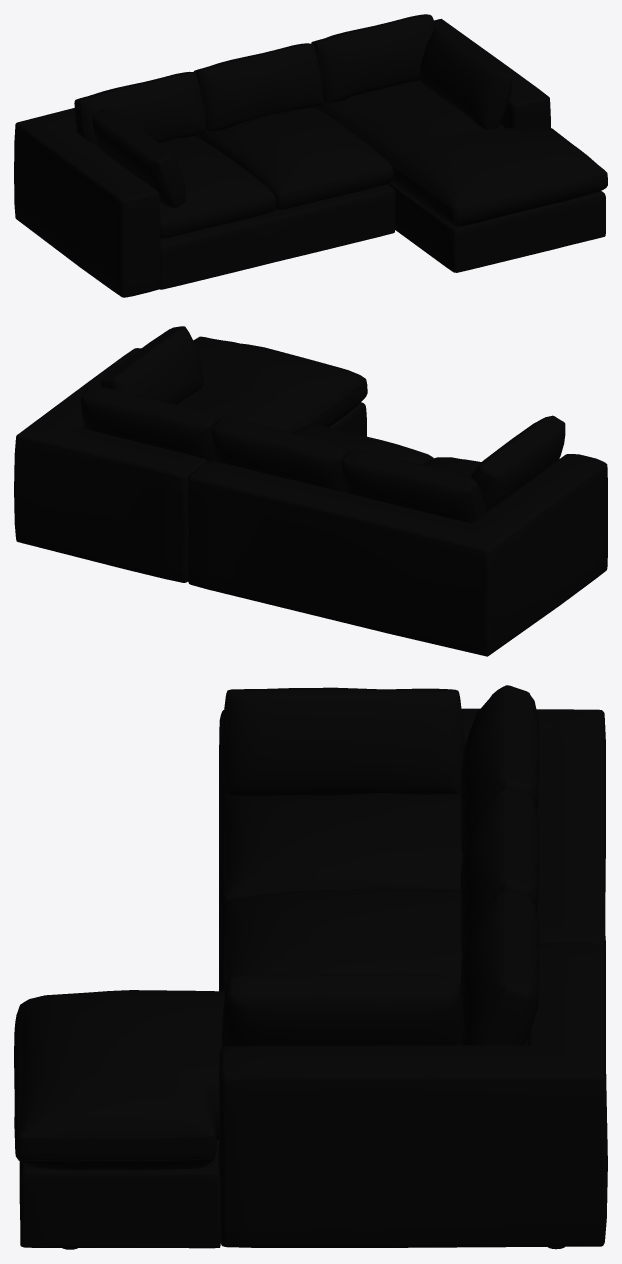
File: luxury_sofa.glb
The picture shows the model from 3 angles, top to bottom: view 1: azimuth 30°, elevation 25°; view 2: azimuth 150°, elevation 25°; view 3: azimuth 270°, elevation 25°; orthographic projection. The views are drawn at different scales.
Visible parts, largest first — view 1: sofa; view 2: sofa; view 3: sofa.
Part boxes in pixels (left/top/right/bottom): sofa: left=14, top=14, right=607, bottom=297; sofa: left=14, top=326, right=607, bottom=656; sofa: left=14, top=685, right=607, bottom=1249.
Bounding box in the file's own units: 2.59 × 0.8 × 1.75.
1 material, 1 textured.
